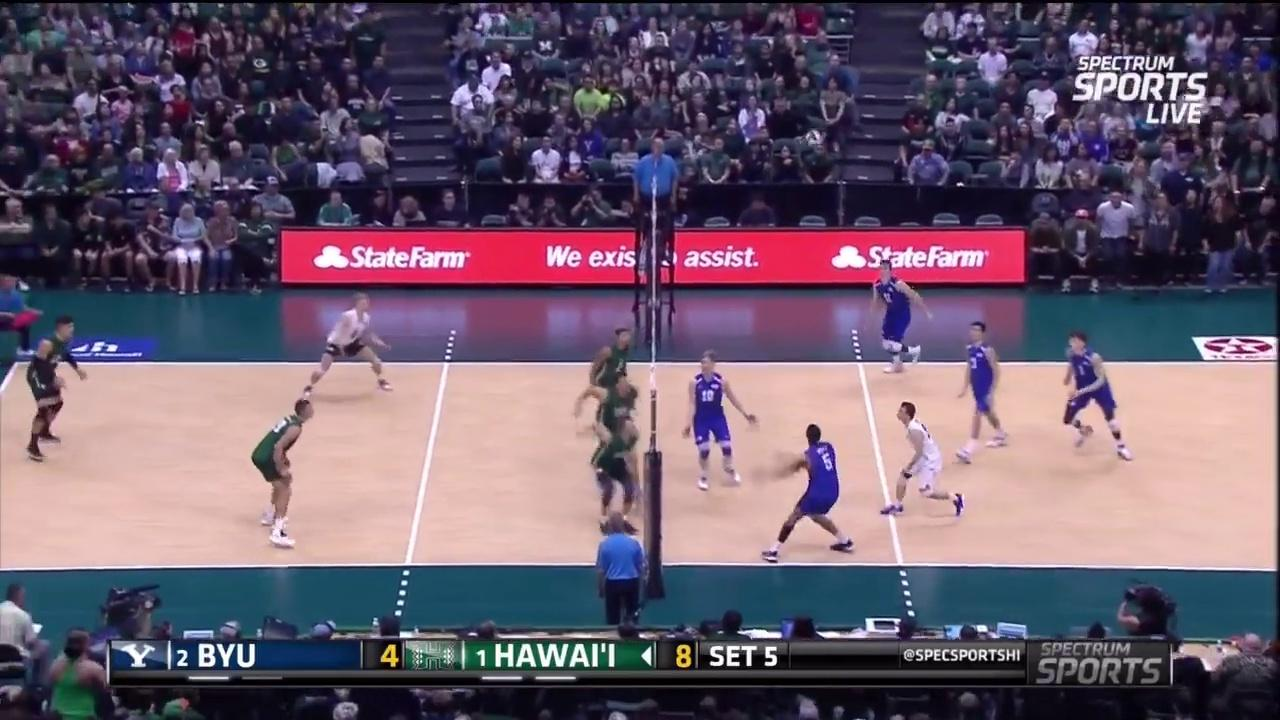player: (760, 426, 853, 555), (683, 354, 754, 488), (307, 291, 397, 394), (21, 319, 85, 462), (887, 402, 964, 519), (253, 396, 312, 544), (1062, 337, 1132, 459), (867, 260, 932, 373), (959, 326, 1010, 458), (591, 416, 645, 539), (580, 369, 640, 479), (587, 321, 639, 435)
refree: (590, 509, 651, 623), (634, 136, 680, 256), (0, 266, 41, 363)
